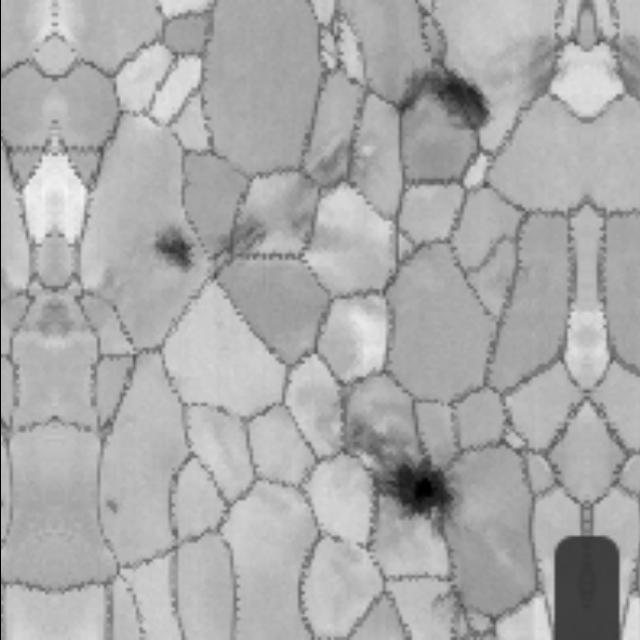good_void: (320, 392, 478, 556), (388, 47, 498, 144), (183, 207, 277, 301), (137, 217, 207, 294), (97, 491, 126, 521), (0, 496, 8, 512)
